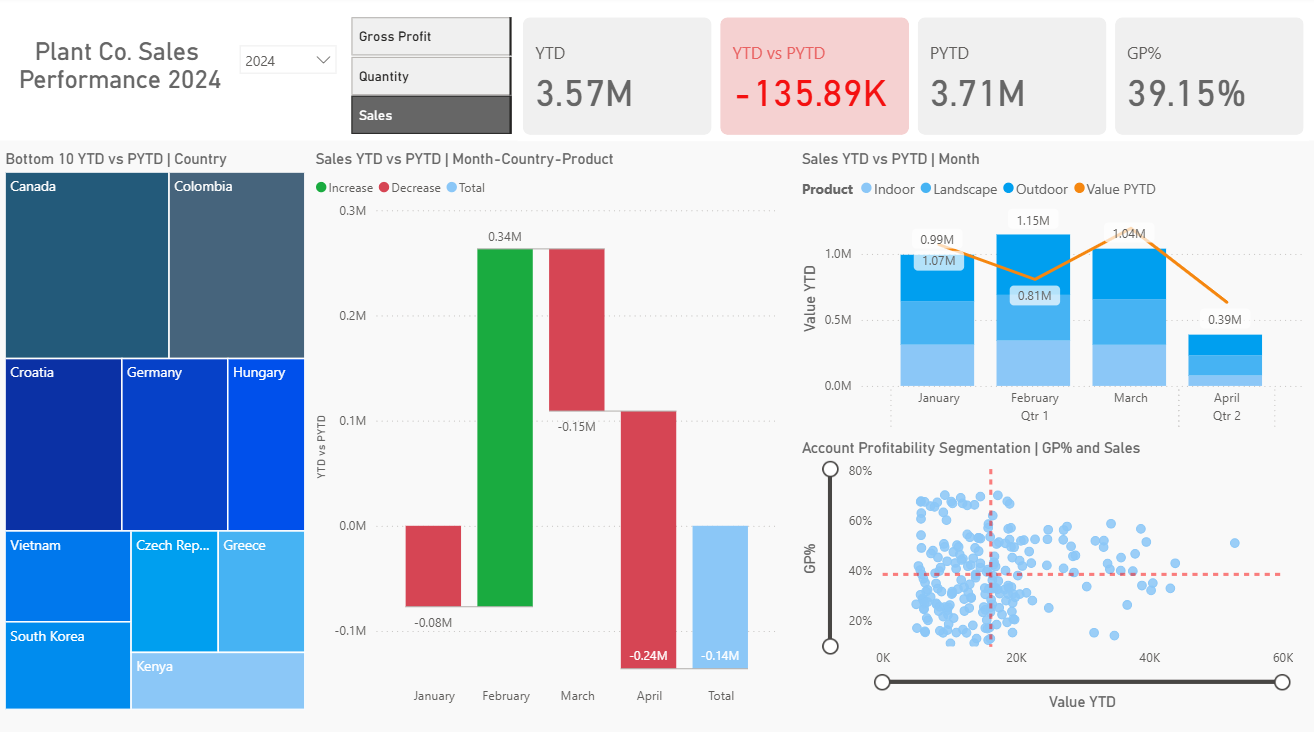

What the dashboard file says about the page in this screenshot:
{"tool":"powerbi","page":{"name":"Performance Report","canvas":[1280,720],"ordinal":0},"visuals":[{"type":"slicer","fields":{"Values":["Dim_Date.Date.Variation.Date Hierarchy.Year"]},"box":[222.7,37.5,113.8,50.8],"z":0},{"type":"cardVisual","fields":{"Data":["_Measures.S_YTD","_Measures.YTD vs PYTD","_Measures.S_PYTD","_Measures.GP%"]},"box":[502.4,15.7,766.2,124.7],"z":1000},{"type":"advancedSlicerVisual","fields":{"Values":["slc_values.Values"]},"box":[336.5,15.7,165.8,124.7],"z":2000},{"type":"treemap","title":"Bottom 10 YTD vs PYTD | Country","fields":{"Group":["Dim_Account.country"],"Values":["_Measures.YTD vs PYTD"]},"box":[1.2,148.9,300.2,547.1],"z":3000},{"type":"waterfallChart","fields":{"Y":["_Measures.YTD vs PYTD"],"Category":["Dim_Date.Date.Variation.Date Hierarchy.Month","Dim_Account.country","Dim_Product.Product_Name","Dim_Product.Produt_Type"]},"box":[301.4,148.9,458.8,547.1],"z":4000},{"type":"lineStackedColumnComboChart","fields":{"Y":["_Measures.S_YTD"],"Y2":["_Measures.S_PYTD"],"Category":["Dim_Date.Date.Variation.Date Hierarchy.Quarter","Dim_Date.Date.Variation.Date Hierarchy.Month"],"Series":["Dim_Product.Produt_Type"]},"box":[772.3,148.9,496.3,279.6],"z":5000},{"type":"scatterChart","fields":{"Y":["_Measures.GP%"],"X":["_Measures.S_YTD"],"Category":["Dim_Account.Account"]},"box":[772.3,428.5,485.4,267.5],"z":6000},{"type":"card","fields":{"Values":["_Measures._report Title"]},"box":[0,0,234.8,131.9],"z":7000}]}

Visuals, with their boxes in screenshot pixels (x1, y1, x2, y2), scaled from the page's 1280x720 canvas onto the 1314x732 screenshot:
slicer - Dim_Date.Date.Variation.Date Hierarchy.Year: detection(229, 38, 345, 90)
cardVisual - _Measures.S_YTD x _Measures.YTD vs PYTD: detection(516, 16, 1302, 143)
advancedSlicerVisual - slc_values.Values: detection(345, 16, 516, 143)
"Bottom 10 YTD vs PYTD | Country" treemap: detection(1, 151, 309, 708)
waterfallChart - _Measures.YTD vs PYTD x Dim_Date.Date.Variation.Date Hierarchy.Month: detection(309, 151, 780, 708)
lineStackedColumnComboChart - _Measures.S_YTD x _Measures.S_PYTD: detection(793, 151, 1302, 436)
scatterChart - _Measures.GP% x _Measures.S_YTD: detection(793, 436, 1291, 708)
card - _Measures._report Title: detection(0, 0, 241, 134)
